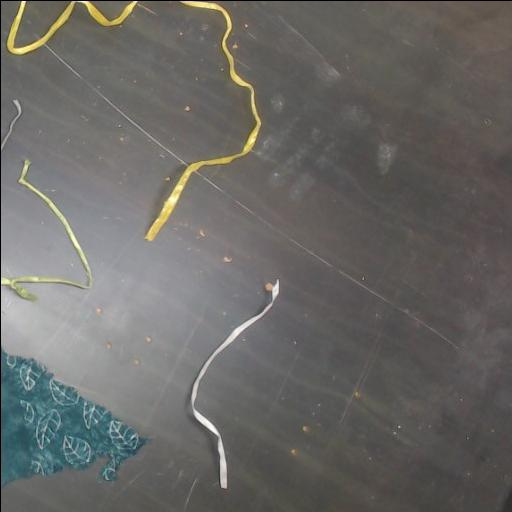cloth: (1, 347, 145, 485)
conveyor belt: (1, 1, 512, 512), (17, 1, 67, 43), (92, 1, 126, 17)
thread: (145, 1, 260, 240), (190, 279, 278, 488), (1, 159, 91, 299), (6, 1, 137, 54), (1, 100, 21, 149)
